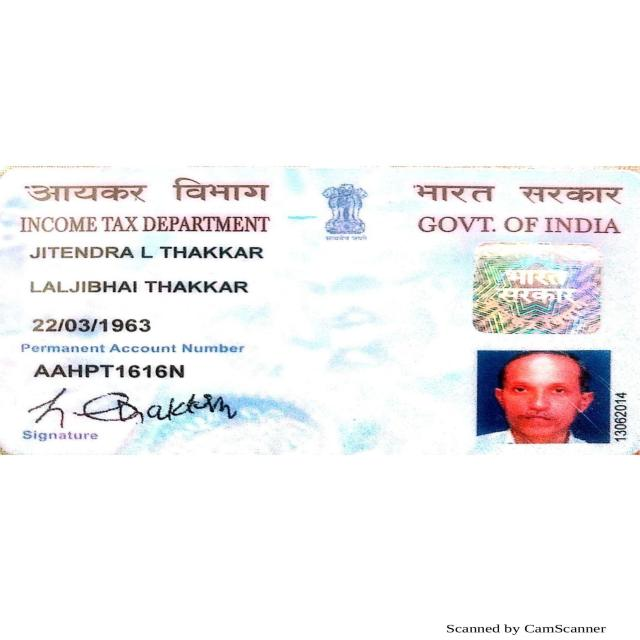pan_card: (1, 172, 638, 455)
